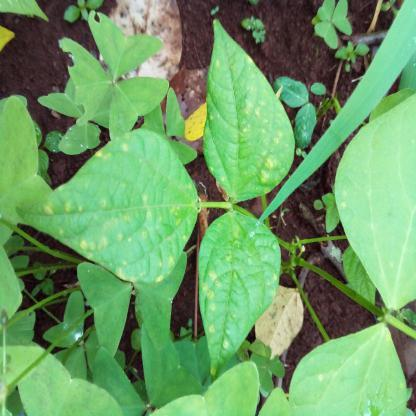Beans_Rust: (20, 130, 198, 284), (333, 88, 416, 308), (200, 19, 295, 199), (198, 206, 284, 378), (292, 319, 404, 416)
